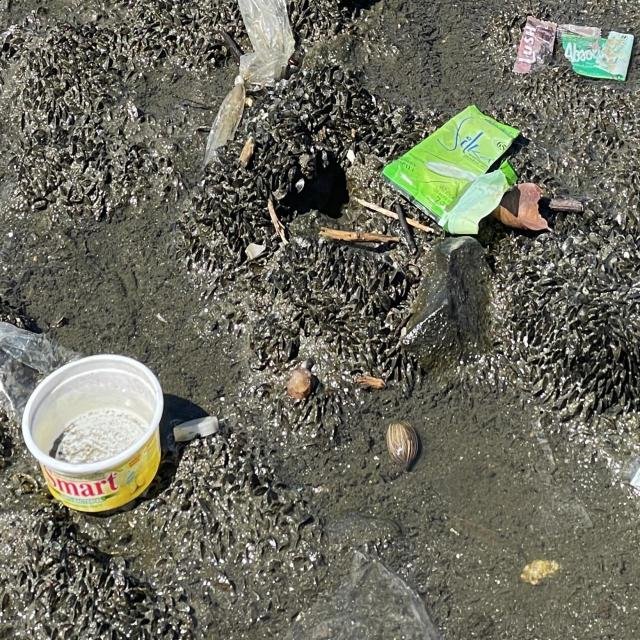plastic_waste: (20, 350, 172, 518), (378, 102, 528, 240), (506, 16, 636, 86)
